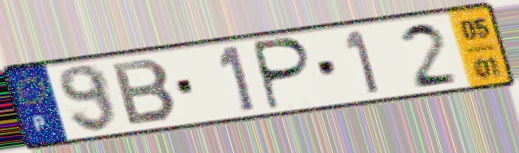1: (214, 43, 259, 115), (342, 28, 384, 97)
2: (397, 21, 462, 89)
9: (56, 62, 120, 136)
B: (108, 57, 181, 128)
P: (252, 35, 316, 113)
